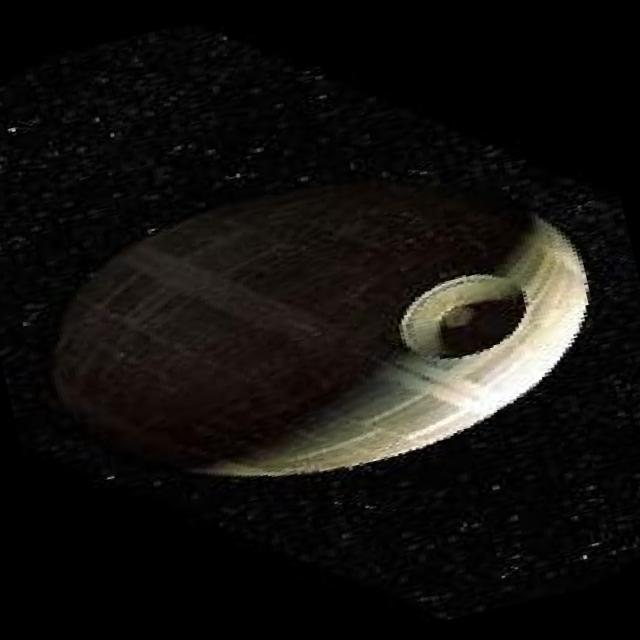Death Star: (9, 122, 624, 536)
